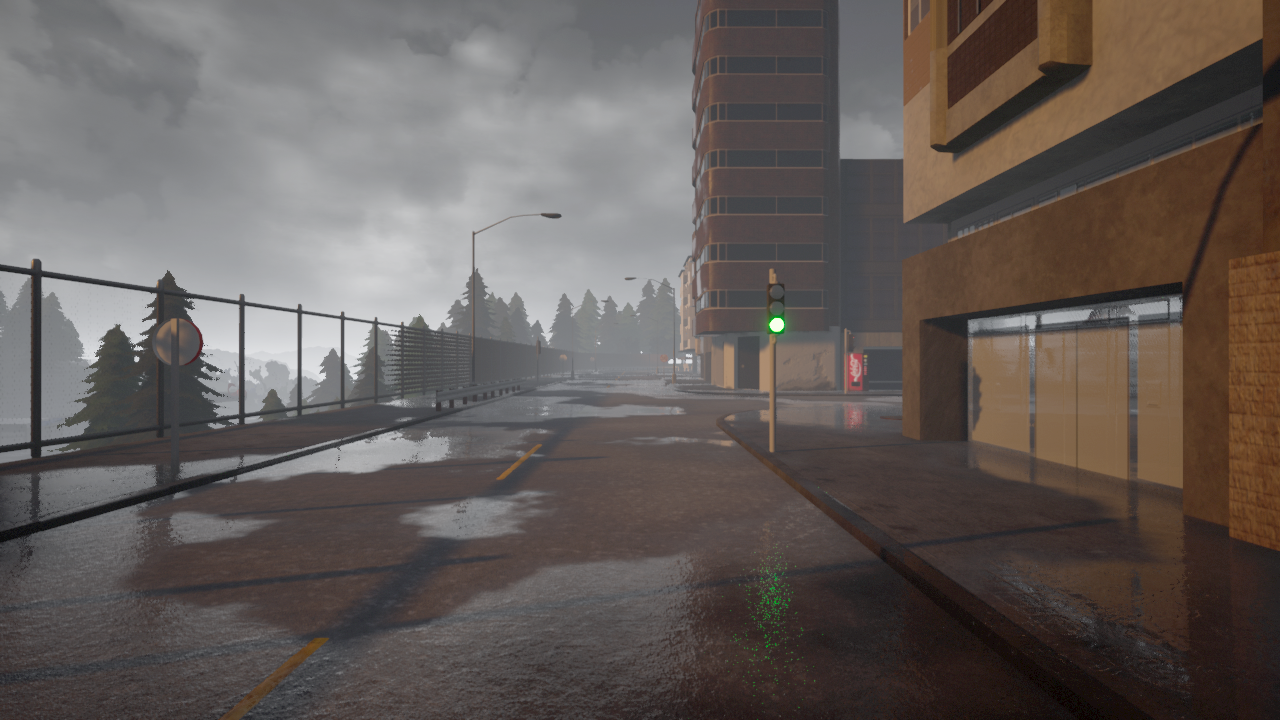green: (765, 282, 788, 337)
